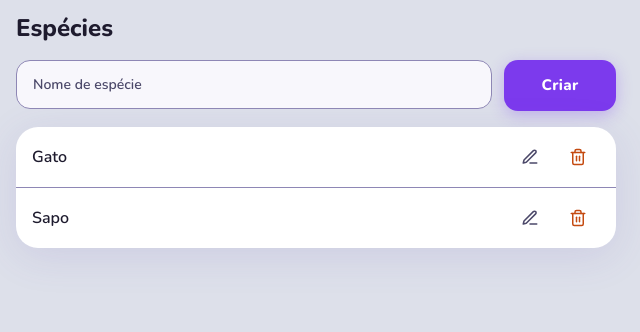
Test: SpeciesPage — renomeacao › CT-16: o nome e atualizado na lista, o identificador NAO muda e o sucesso e anunciado
Click the 4th button. click: x=530, y=218
box: [508,196,552,240]
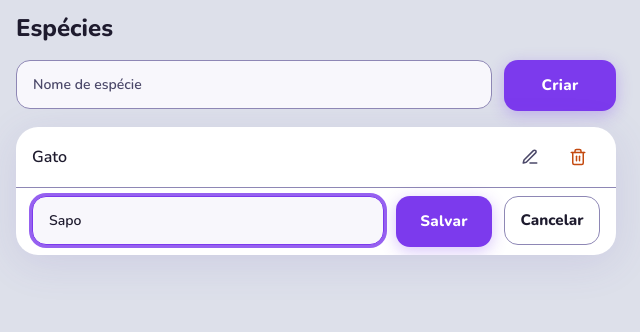
Type keys "{Backspace}{Backspace}{Backspace}{Backspace}Perereca{Enter}"
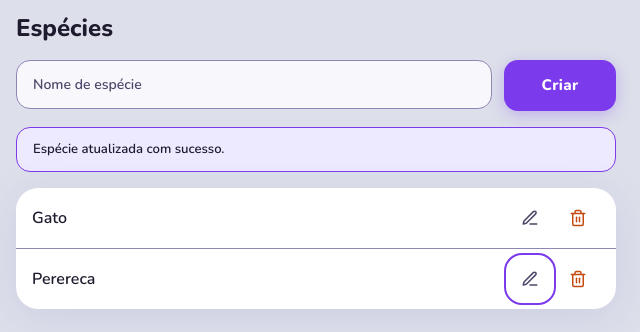
Expected: the message reads "Espécie atualizada com sucesso.", [33,140,224,158]
